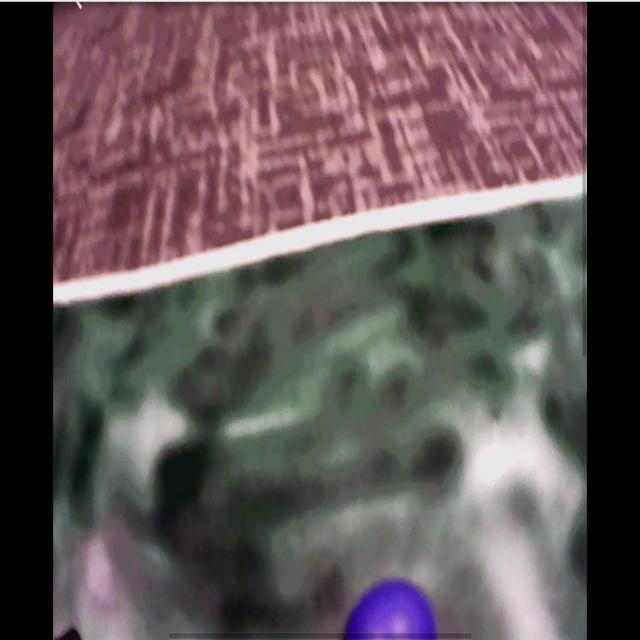ball: (343, 580, 437, 640)
